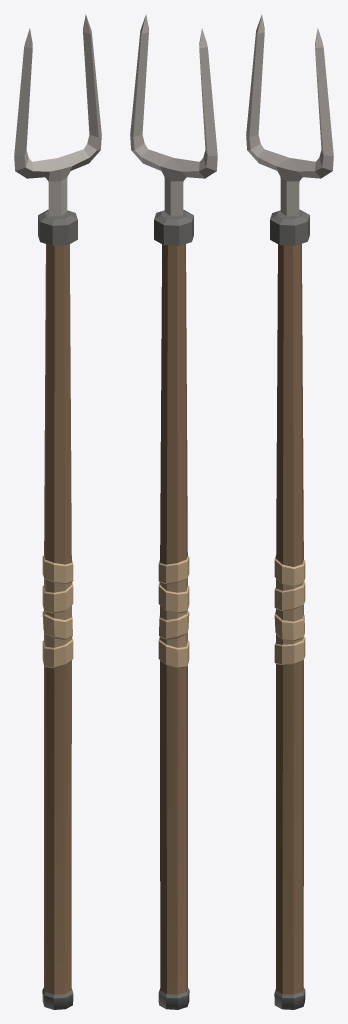
The model's file is SM_pwe_slavic_spear_01.fbx.
3 views of the same model, side by side, from view 1: azimuth 30°, elevation 25°; view 2: azimuth 150°, elevation 25°; view 3: azimuth 330°, elevation 25° (orthographic).
Parts seen in each view (by area): view 1: SM_pwe_slavic_spear_01; view 2: SM_pwe_slavic_spear_01; view 3: SM_pwe_slavic_spear_01.
Boxes of the visible parts, box(x1,y1,x2,y2) form: SM_pwe_slavic_spear_01: box(14, 14, 101, 1009); SM_pwe_slavic_spear_01: box(130, 14, 217, 1009); SM_pwe_slavic_spear_01: box(246, 14, 333, 1009).
Size of the model in its own units: 17.51 by 188 by 7.15.
